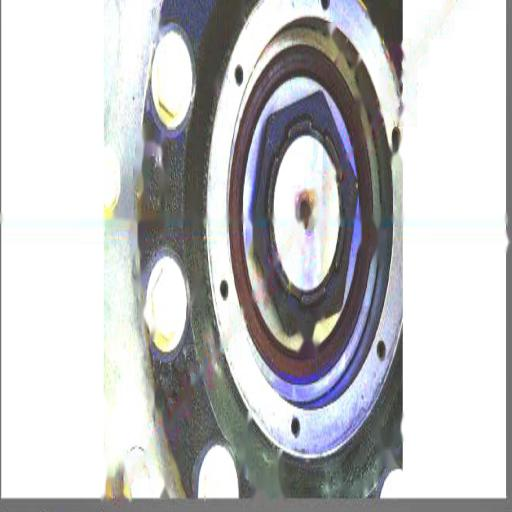center: (298, 192, 311, 228)
notch: (294, 336, 318, 356)
